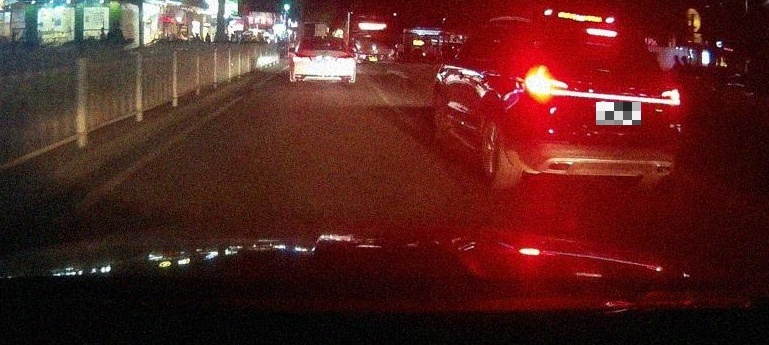L_light: (524, 74, 569, 97), (292, 54, 311, 61)
R_light: (656, 87, 681, 106), (338, 56, 355, 62)
T_light: (585, 27, 618, 38), (318, 38, 331, 41)
night-left: (519, 19, 684, 196)
night-no: (289, 36, 356, 84)
plate_1: (596, 102, 641, 125)
